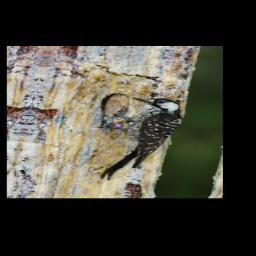Woodpecker: (86, 95, 187, 184)
